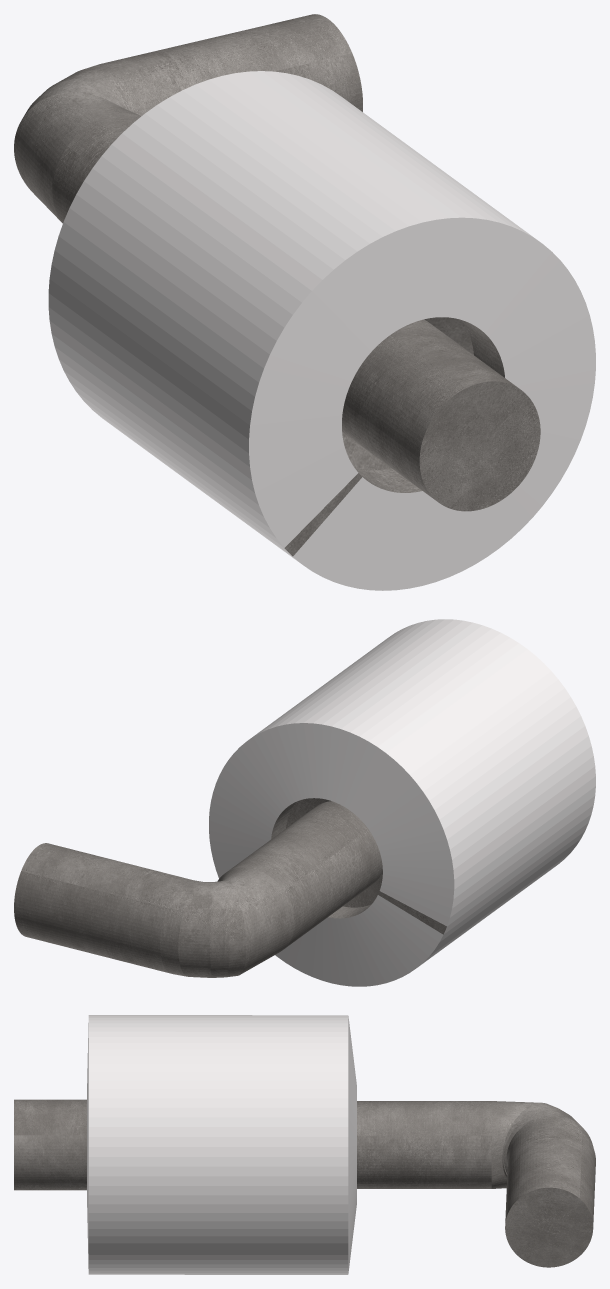
Rendered from ConfortPared.fbx.
3 views of the same model, one above another, from view 1: azimuth 30°, elevation 25°; view 2: azimuth 150°, elevation 25°; view 3: azimuth 270°, elevation 25° (orthographic). The views are drawn at different scales.
Visible parts, largest first — view 1: confort; view 2: confort; view 3: confort.
Boxes of the visible parts, x1=… form: confort: x1=14, y1=14, x2=595, y2=590; confort: x1=14, y1=619, x2=595, y2=986; confort: x1=14, y1=1015, x2=595, y2=1274.
Bounding box in the file's own units: 0.4033 × 0.3216 × 0.7205.
2 materials, 1 textured.
